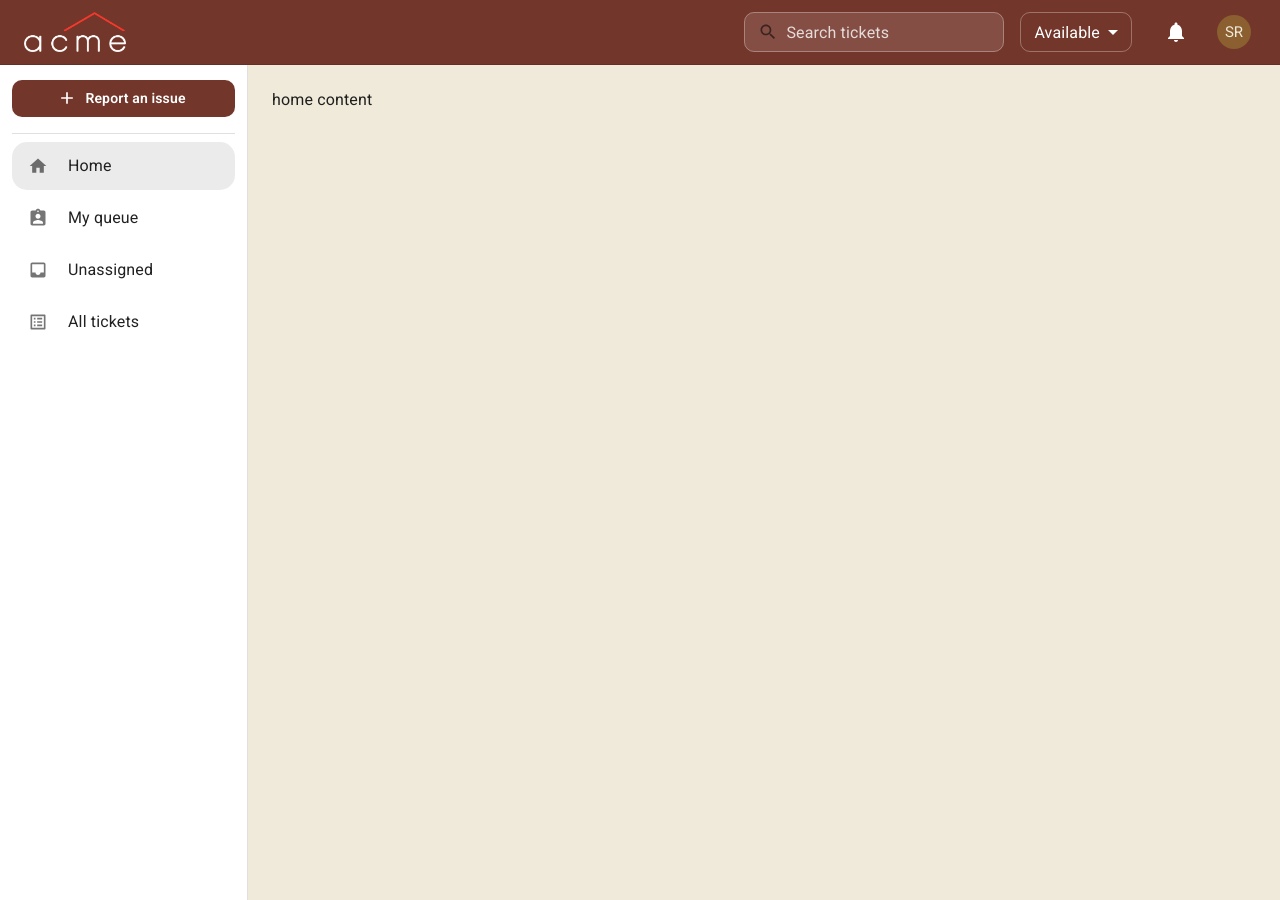
it: account menu › names the signed-in user and their role
Click the button with aria-label "Account menu for Sam Rivera": (1234, 32) 1212,10 -> 1256,54
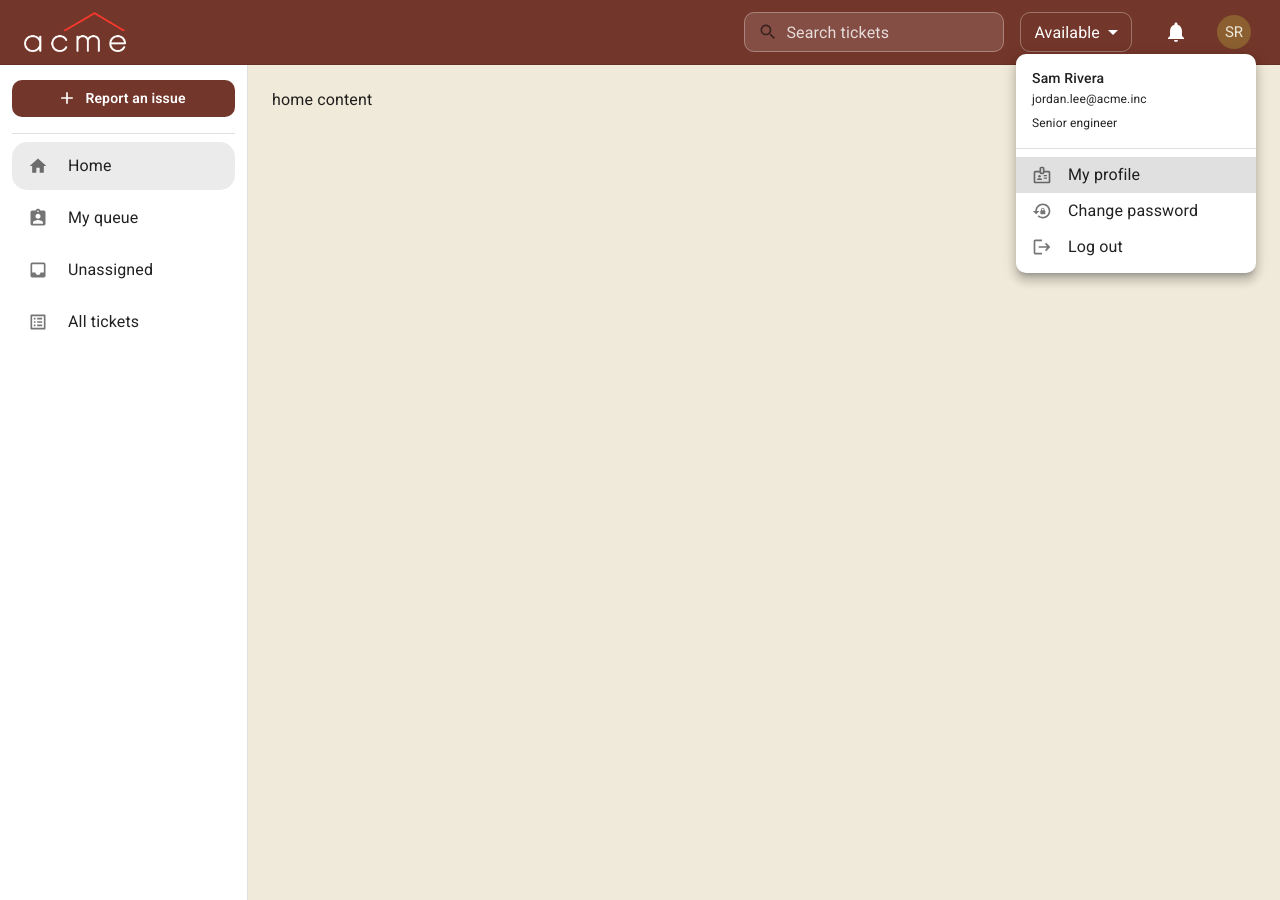
expect the heading "Sam Rivera" is shown: met, box 1032,70 -> 1104,86
expect the text "Senior engineer" is shown: met, box 1032,116 -> 1117,130
